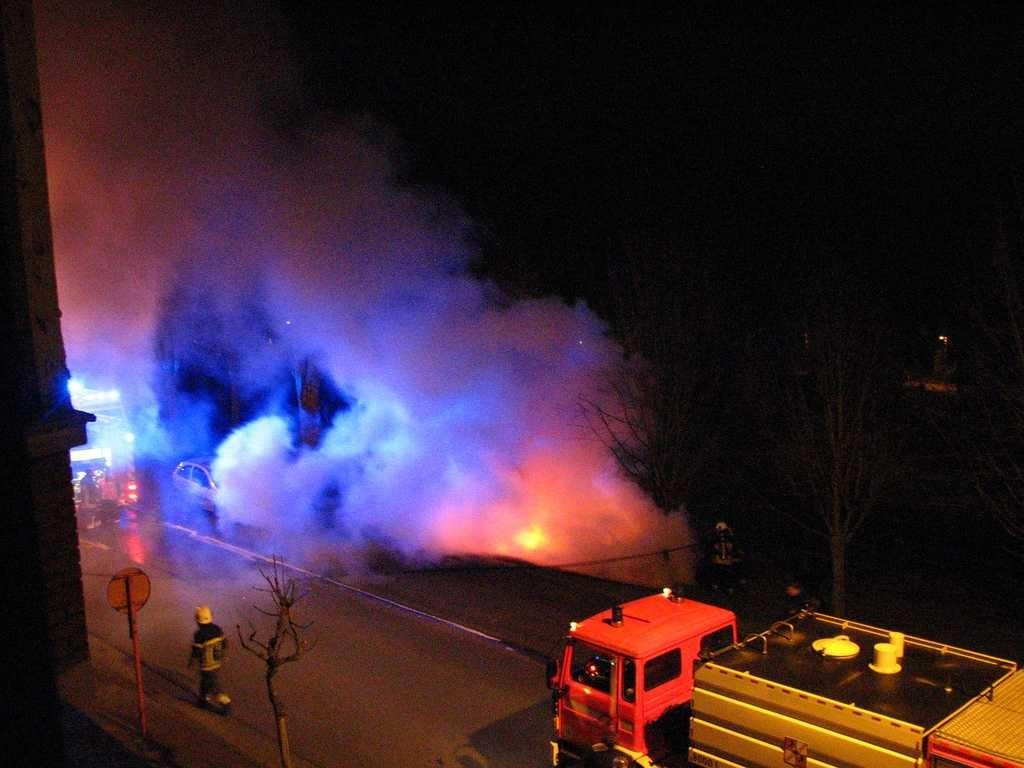fire: (510, 528, 552, 544)
smoke: (54, 20, 236, 204), (264, 136, 384, 302)
